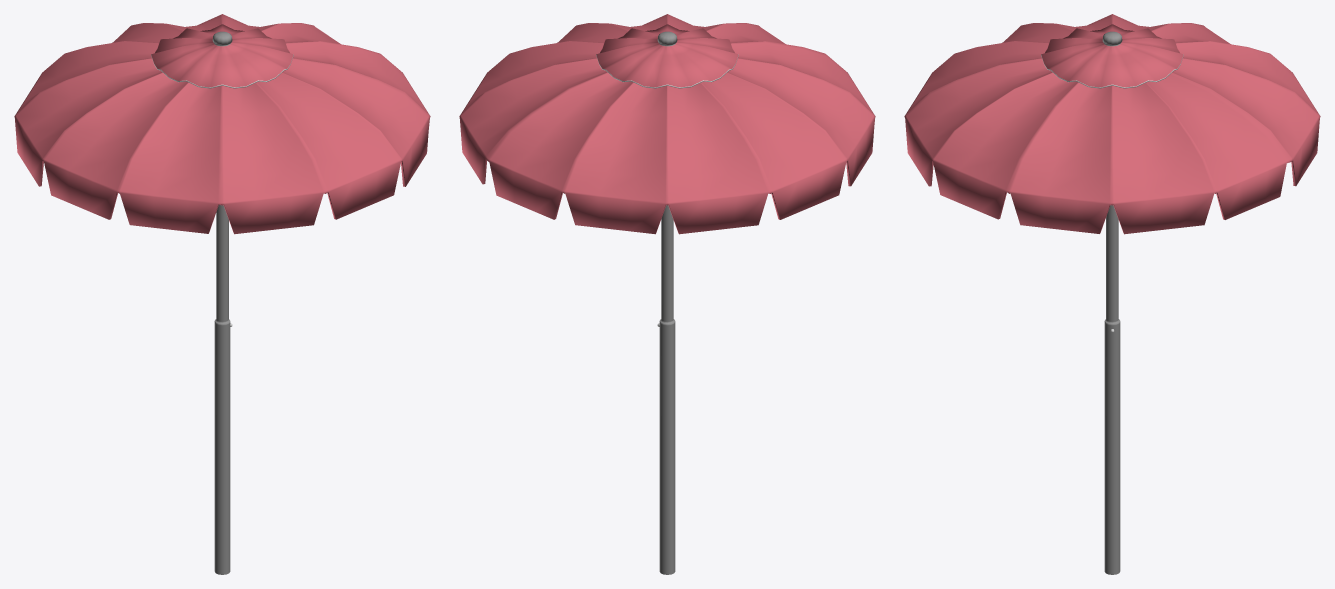
Rendered from BeachUmbrella.fbx.
3 views of the same model, side by side, from view 1: azimuth 30°, elevation 25°; view 2: azimuth 150°, elevation 25°; view 3: azimuth 270°, elevation 25° (orthographic).
Parts seen in each view (by area): view 1: Umbrella_LOD0; view 2: Umbrella_LOD0; view 3: Umbrella_LOD0.
Part boxes in pixels (x1,y1,x2,y2): Umbrella_LOD0: (14, 14, 430, 574); Umbrella_LOD0: (459, 14, 875, 574); Umbrella_LOD0: (904, 14, 1320, 574).
Size of what is drawn, in the model's own units: 221 by 315 by 221.
